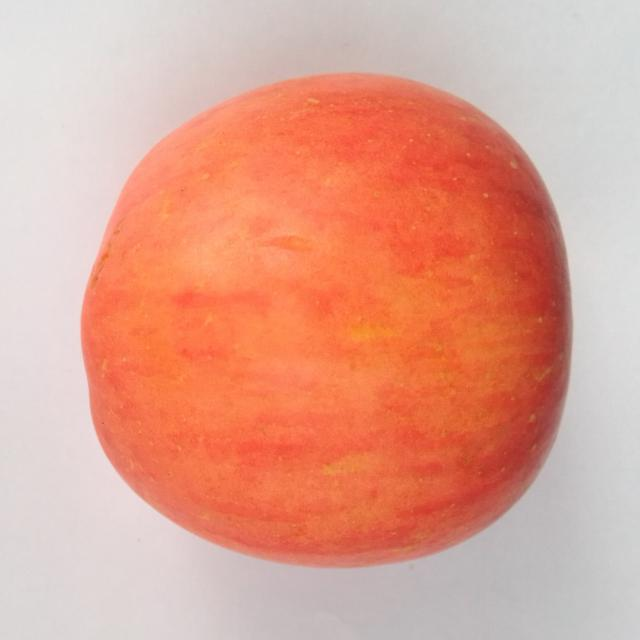Fresh Apple: (68, 66, 580, 576)
